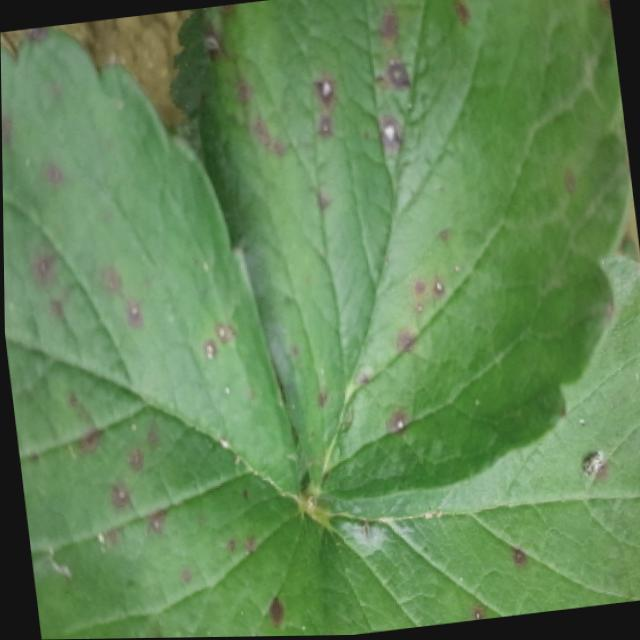Leaf Spot: (199, 0, 630, 505), (0, 25, 327, 640), (311, 248, 640, 636)
